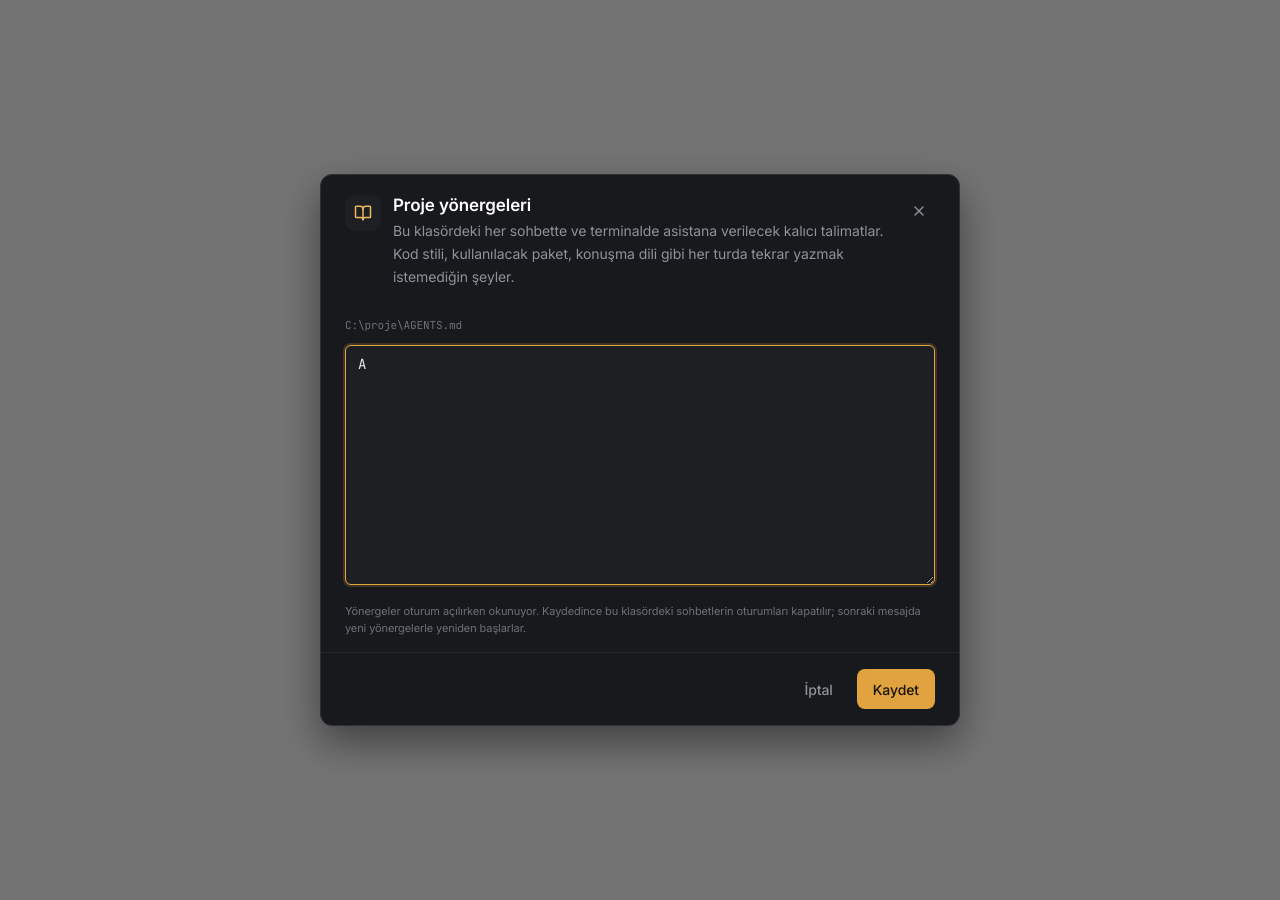
Test: kaydederken kapanma kilidi › ChatInstructionsDialog: yazma isteği hata fırlatırsa kilit kalkıyor, hata görünüyor
Replace the text in the text box with "AB" at [640, 465], box [345,345,935,585]
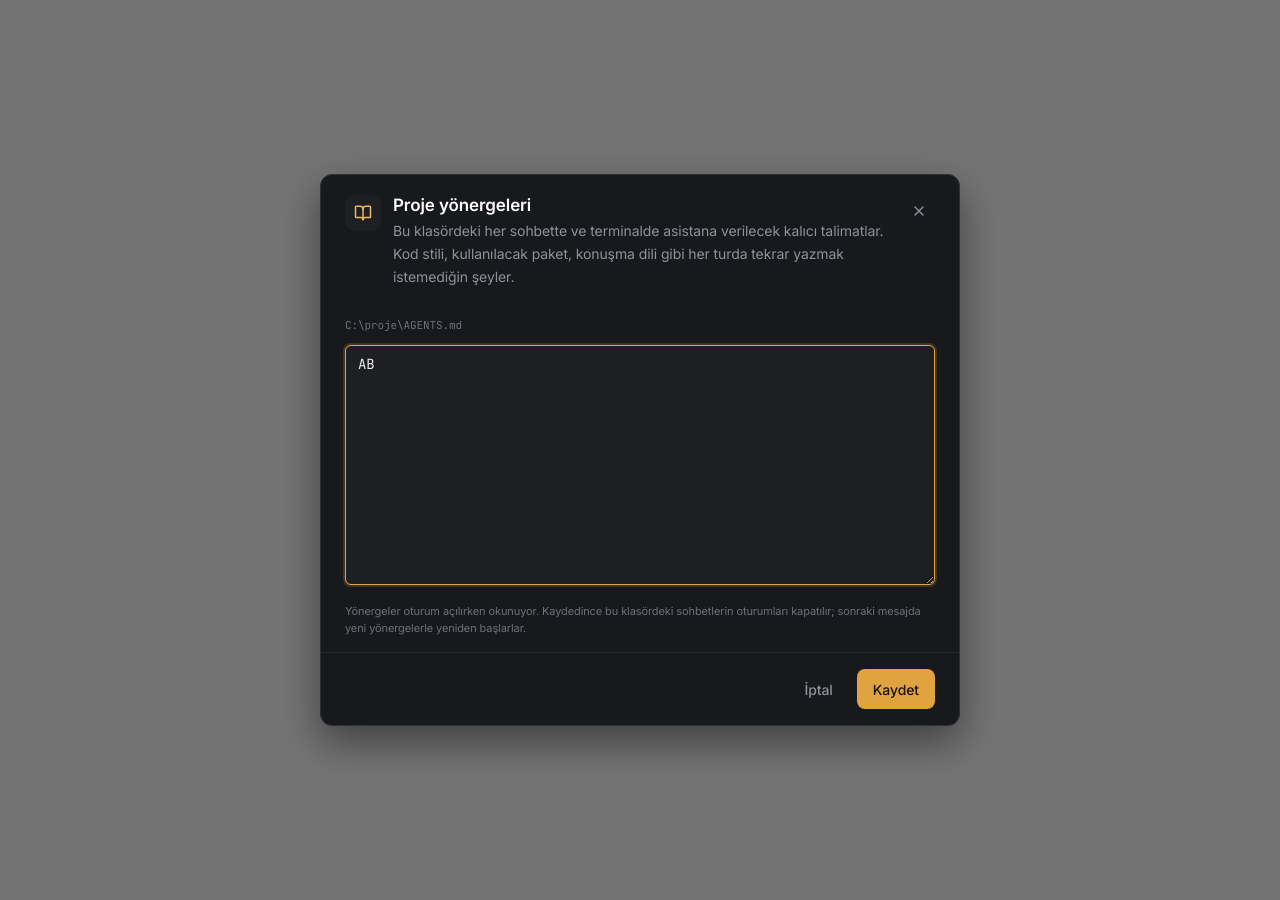
Click the button "Kaydet" at [896, 689], box [857,669,935,709]
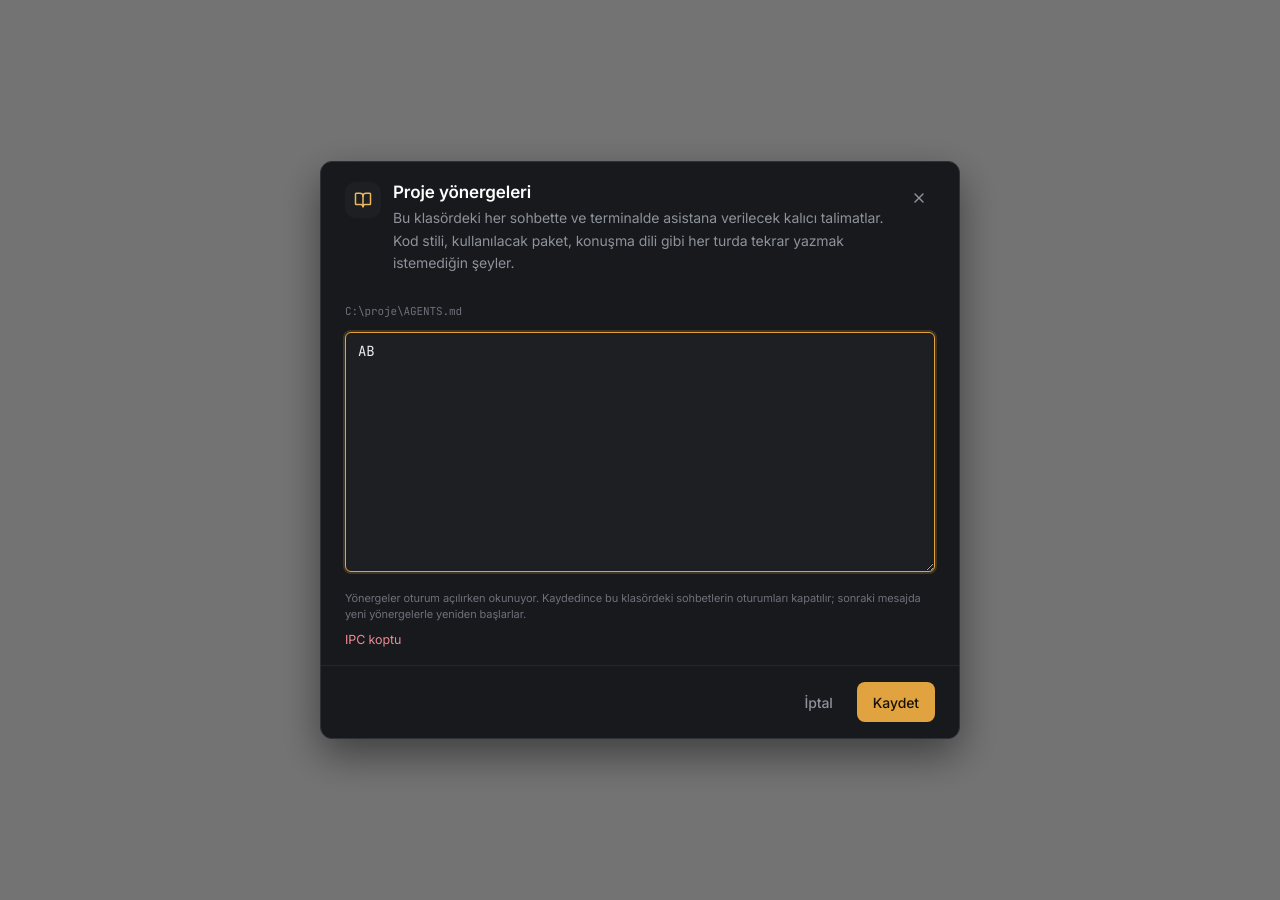
expect the text "IPC koptu" is shown: met, box [345,632,401,647]
Kilit kalktı: X yine çalışıyor ve kirli olduğu için önce soruyor.
Click the button named "Kapat" at [919, 198], box [903,182,935,214]
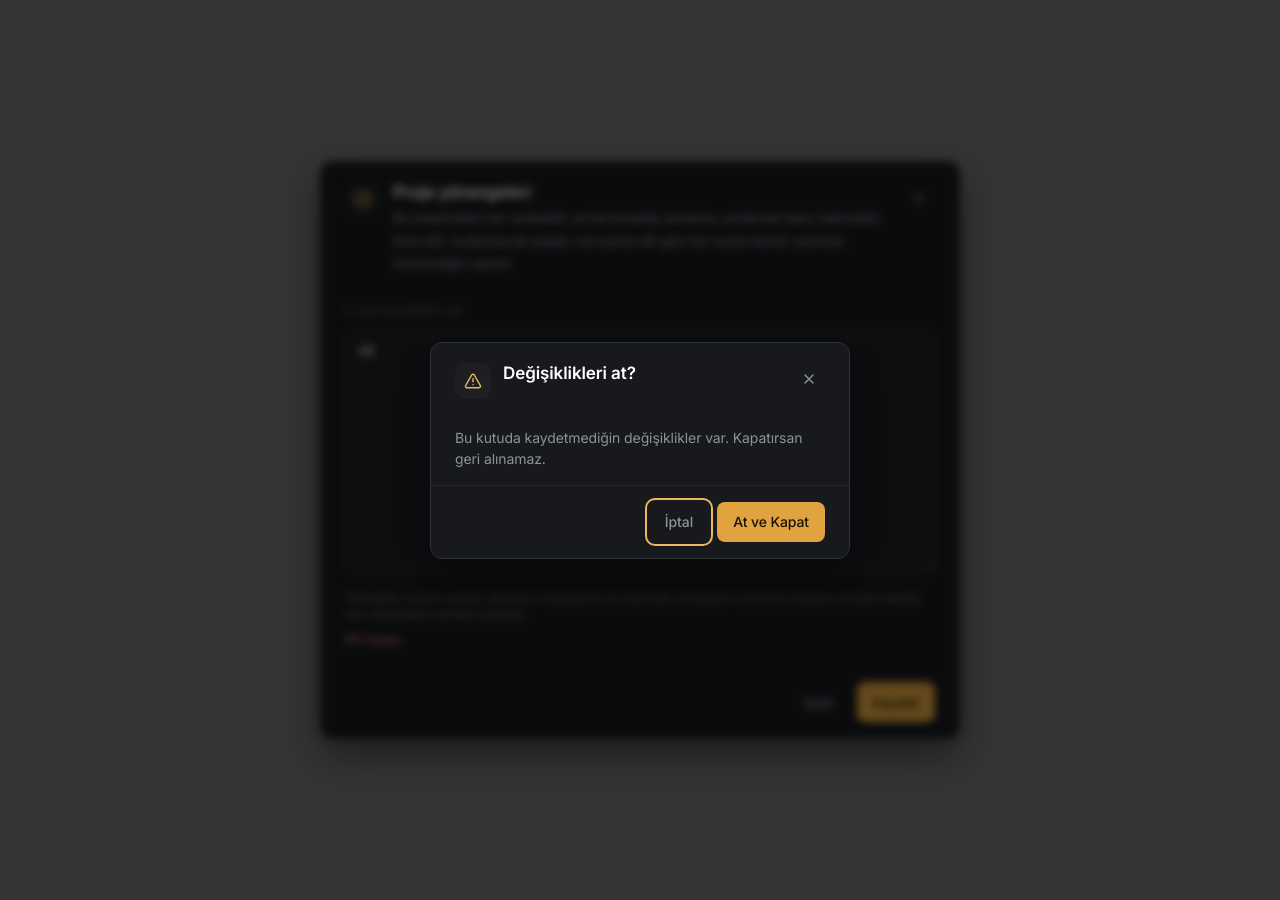
expect the heading "Değişiklikleri at?" is shown: met, box [503,362,636,382]
